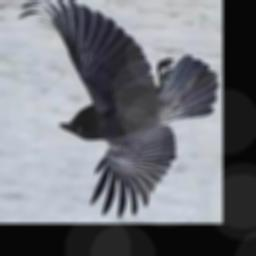Crow: (17, 0, 218, 218)
